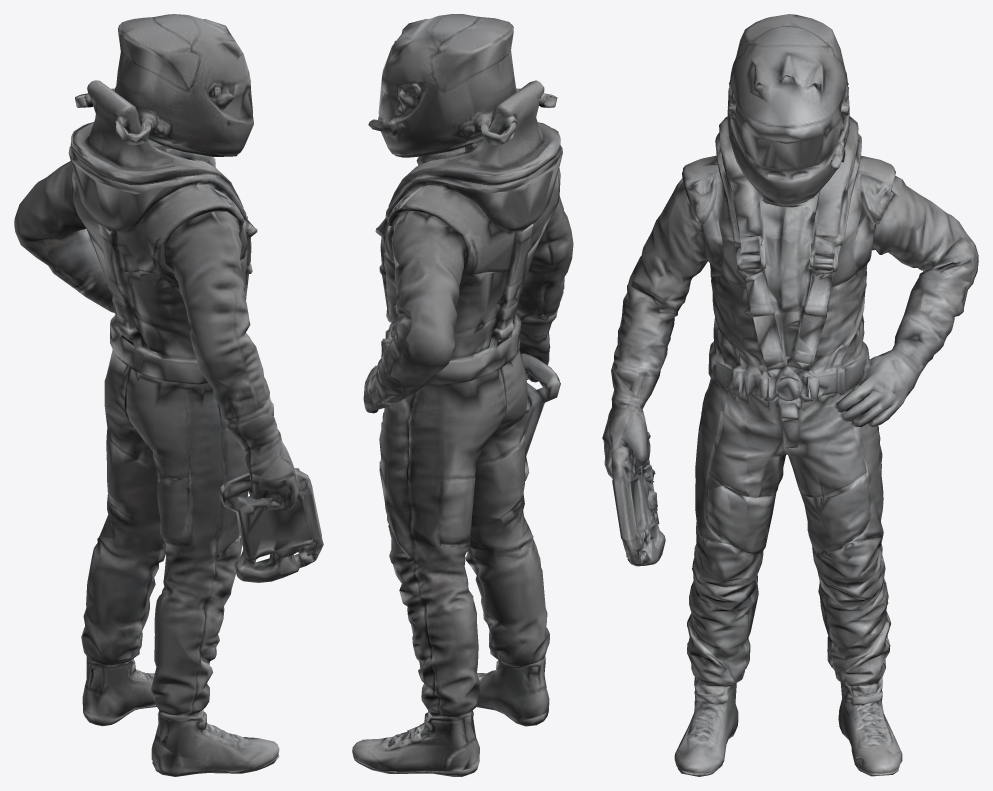
File: piloto_pie.glb
The picture shows the model from 3 angles, left to right: view 1: azimuth 30°, elevation 25°; view 2: azimuth 150°, elevation 25°; view 3: azimuth 270°, elevation 25°; orthographic projection.
Visible parts, largest first — view 1: tripo_node_1e5fb289-dc7a-40ca-8b2f-b398dfb3003c; view 2: tripo_node_1e5fb289-dc7a-40ca-8b2f-b398dfb3003c; view 3: tripo_node_1e5fb289-dc7a-40ca-8b2f-b398dfb3003c.
Part boxes in pixels (x1=…): tripo_node_1e5fb289-dc7a-40ca-8b2f-b398dfb3003c: x1=14, y1=14, x2=323, y2=776; tripo_node_1e5fb289-dc7a-40ca-8b2f-b398dfb3003c: x1=352, y1=14, x2=573, y2=776; tripo_node_1e5fb289-dc7a-40ca-8b2f-b398dfb3003c: x1=602, y1=14, x2=978, y2=776.
Bounding box in the file's own units: 0.4094 × 1.75 × 0.828.
1 material, 1 textured.
